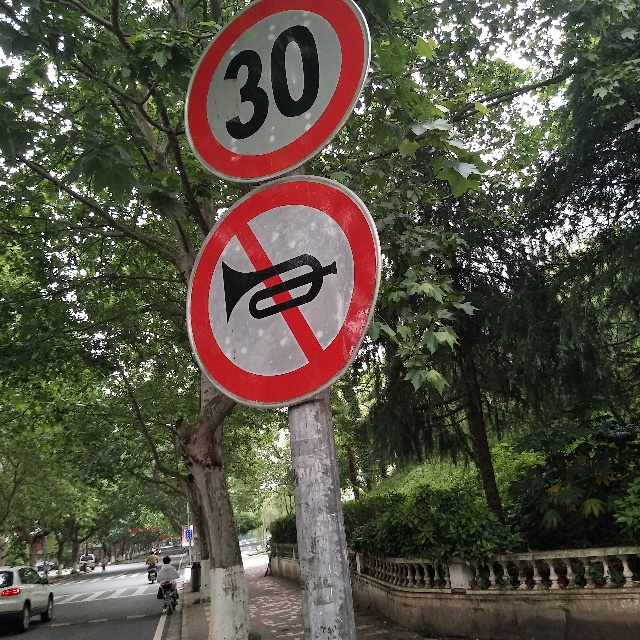nohonk: (188, 176, 382, 409)
